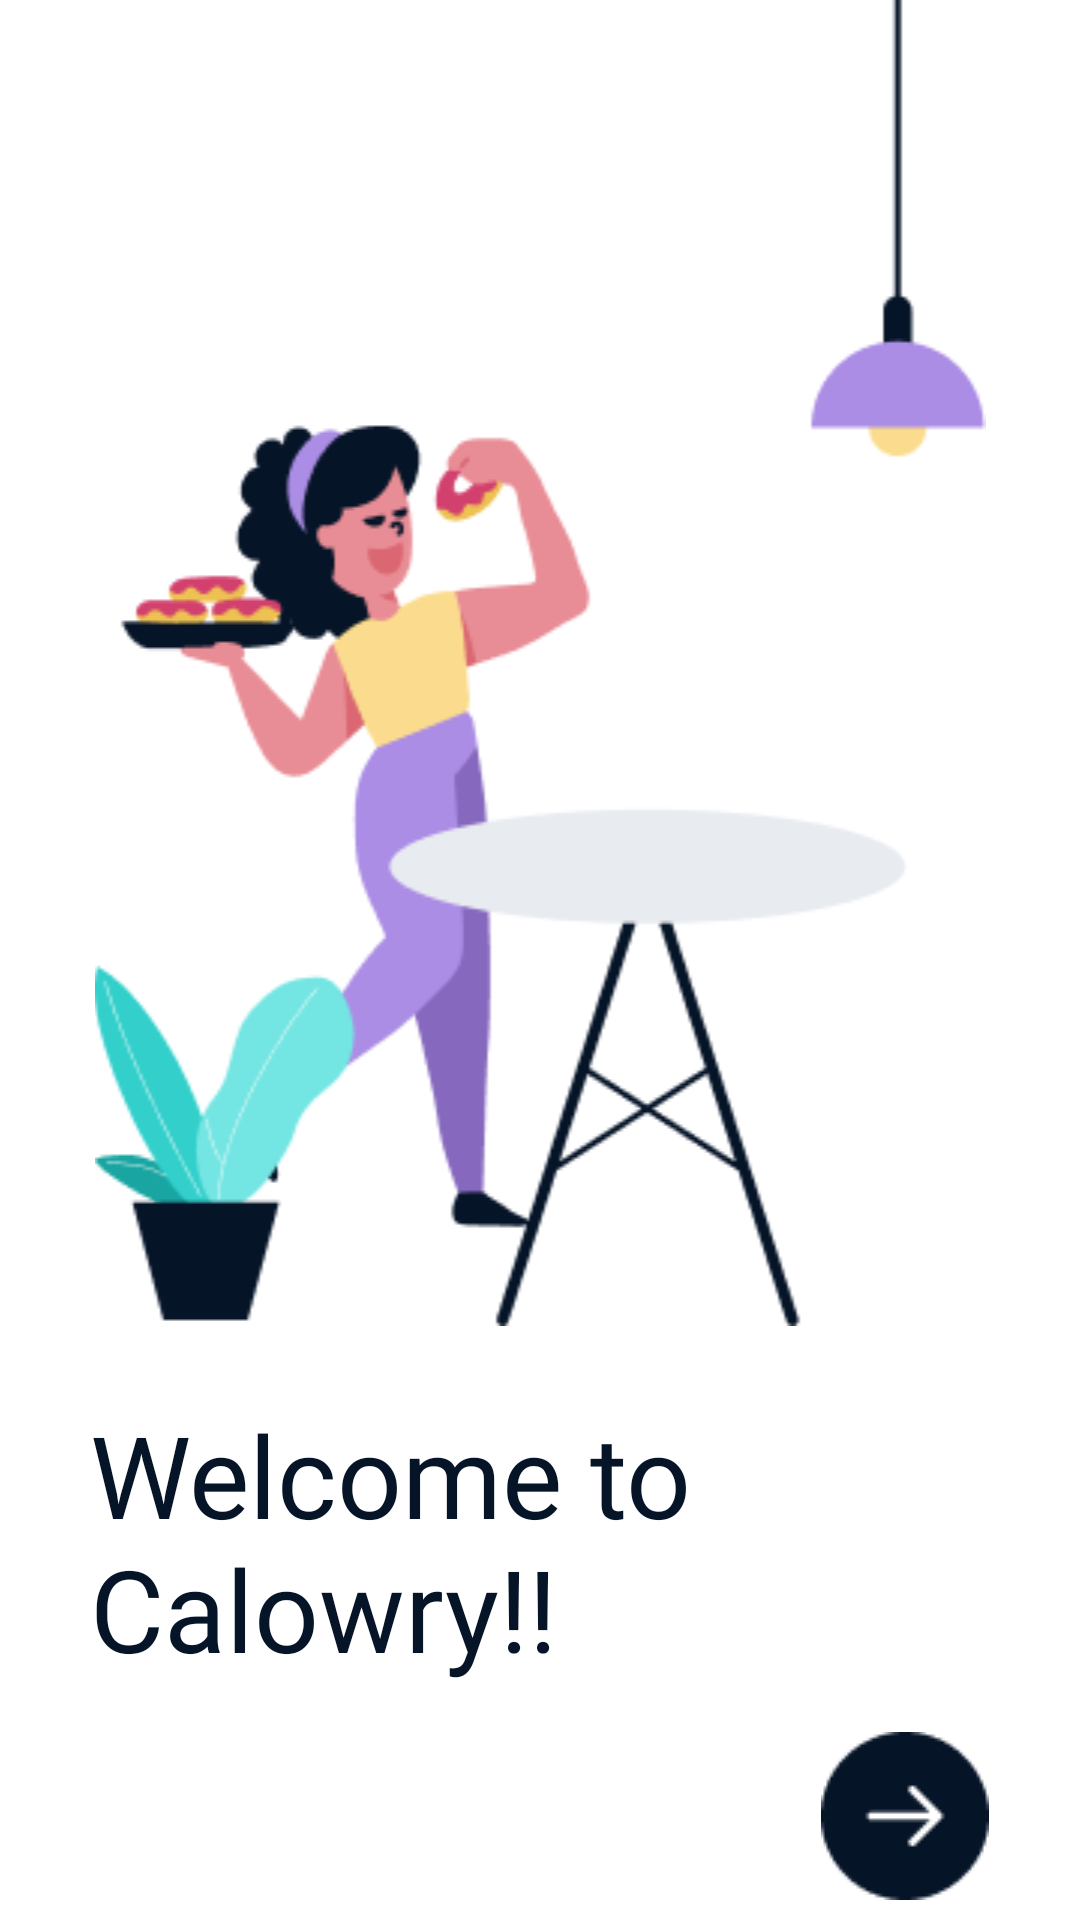

Where to tap for icons on this 1080 x 1920 app screen, as point (x, y):
next: point (905, 1816)
